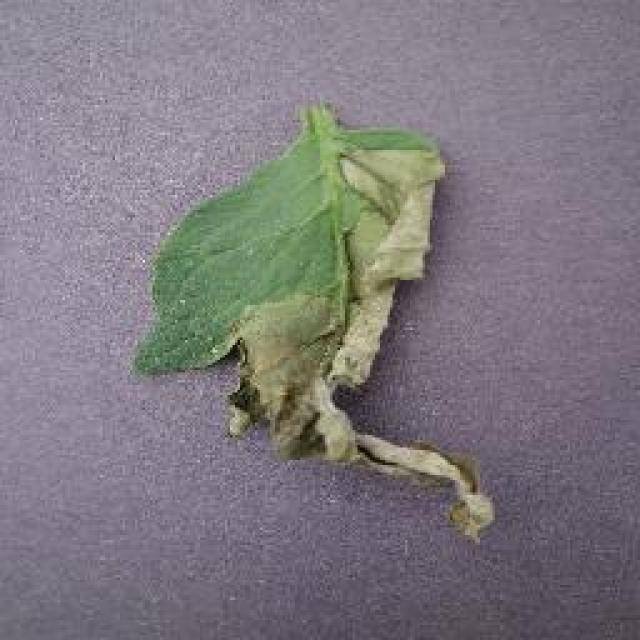Tomato Late Blight: (287, 91, 510, 596)
